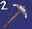pickaxe: (0, 1, 32, 29)
